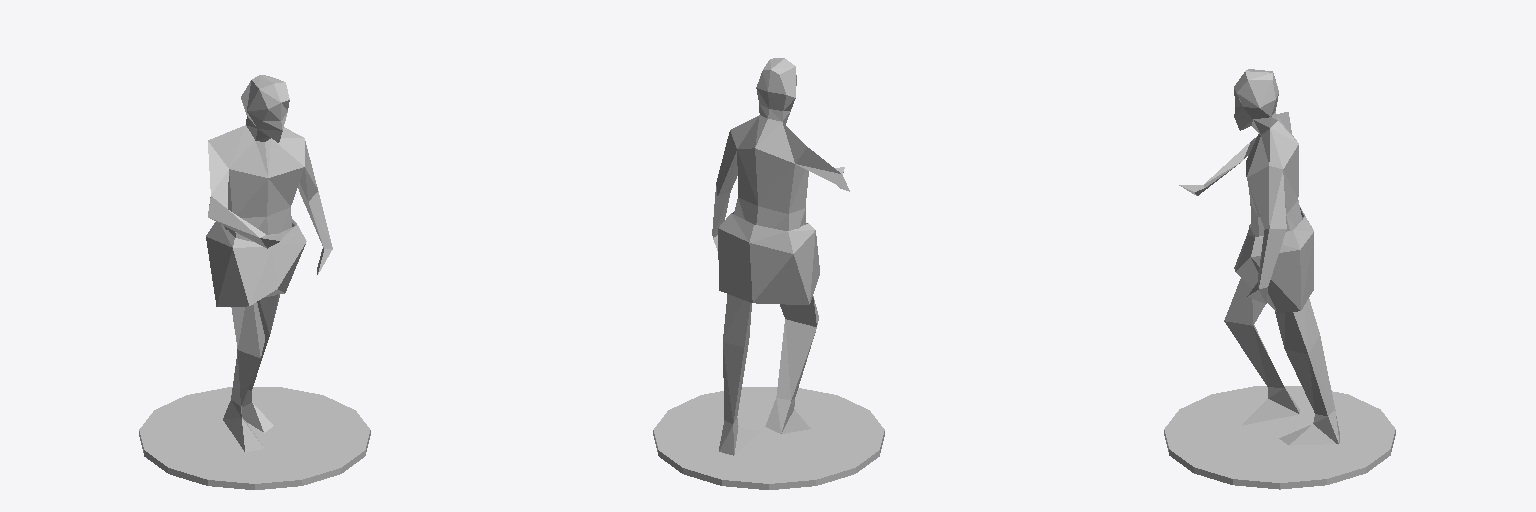
File: enemy2.obj
3 renders of one model, left to right at view 1: azimuth 30°, elevation 25°; view 2: azimuth 150°, elevation 25°; view 3: azimuth 270°, elevation 25°, orthographic.
Parts seen in each view (by area): view 1: enemy:default1, defaultHideFaceDataSet enemy:defaultShapeHiddenFacesSet enemy:de; view 2: enemy:default1; view 3: enemy:default1.
Boxes of the visible parts, <box> form: enemy:default1: <box>139,75,370,489</box>; defaultHideFaceDataSet enemy:defaultShapeHiddenFacesSet enemy:de: <box>229,169,268,217</box>; enemy:default1: <box>653,58,884,489</box>; enemy:default1: <box>1164,69,1395,489</box>.
Size of the model in its own units: 0.9891 by 1.75 by 0.9945.